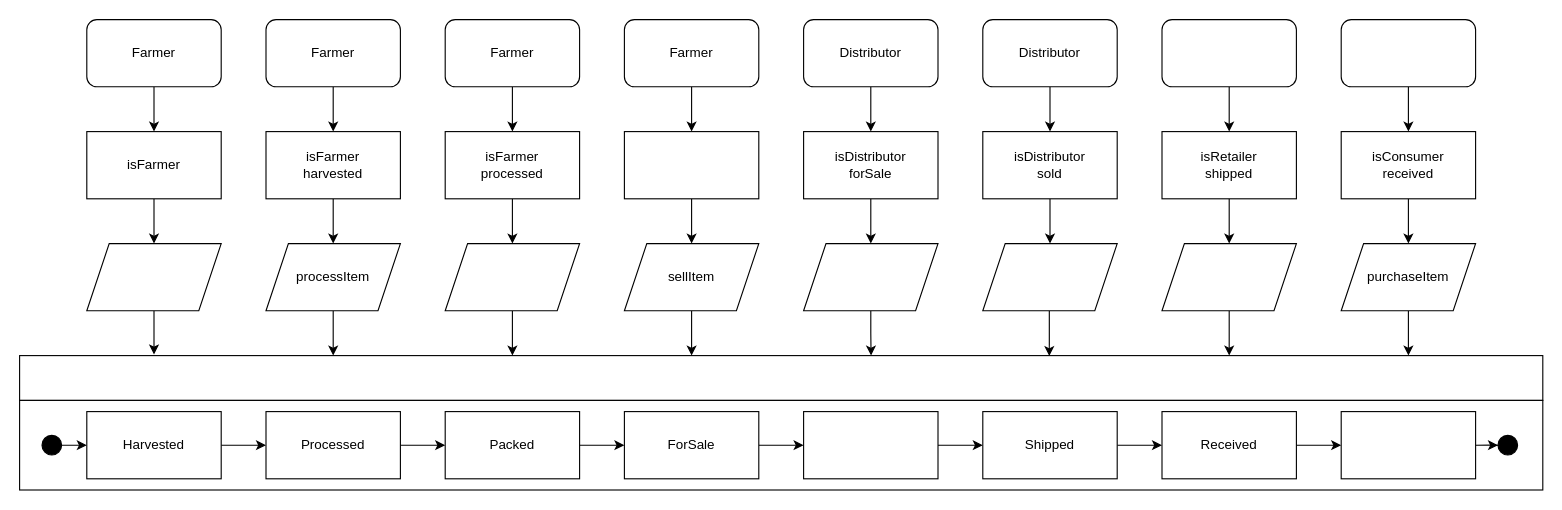
Some shapes in this 1562 by 510 pixel diagram are drawn without their labels. Each missing label, with the centre of its shape:
"buyItem" goes at point 870,276.
"Coffe State" goes at point 780,377.
"Consumer" goes at point 1408,52.
"harvestItem" goes at point 153,276.
"isFarmer packed" goes at point 691,164.
"packItem" goes at point 512,276.
"Purchased" goes at point 1408,444.
"receiveItem" goes at point 1228,276.
"Retailer" goes at point 1228,52.
"shipItem" goes at point 1049,276.
"Sold" goes at point 870,444.
